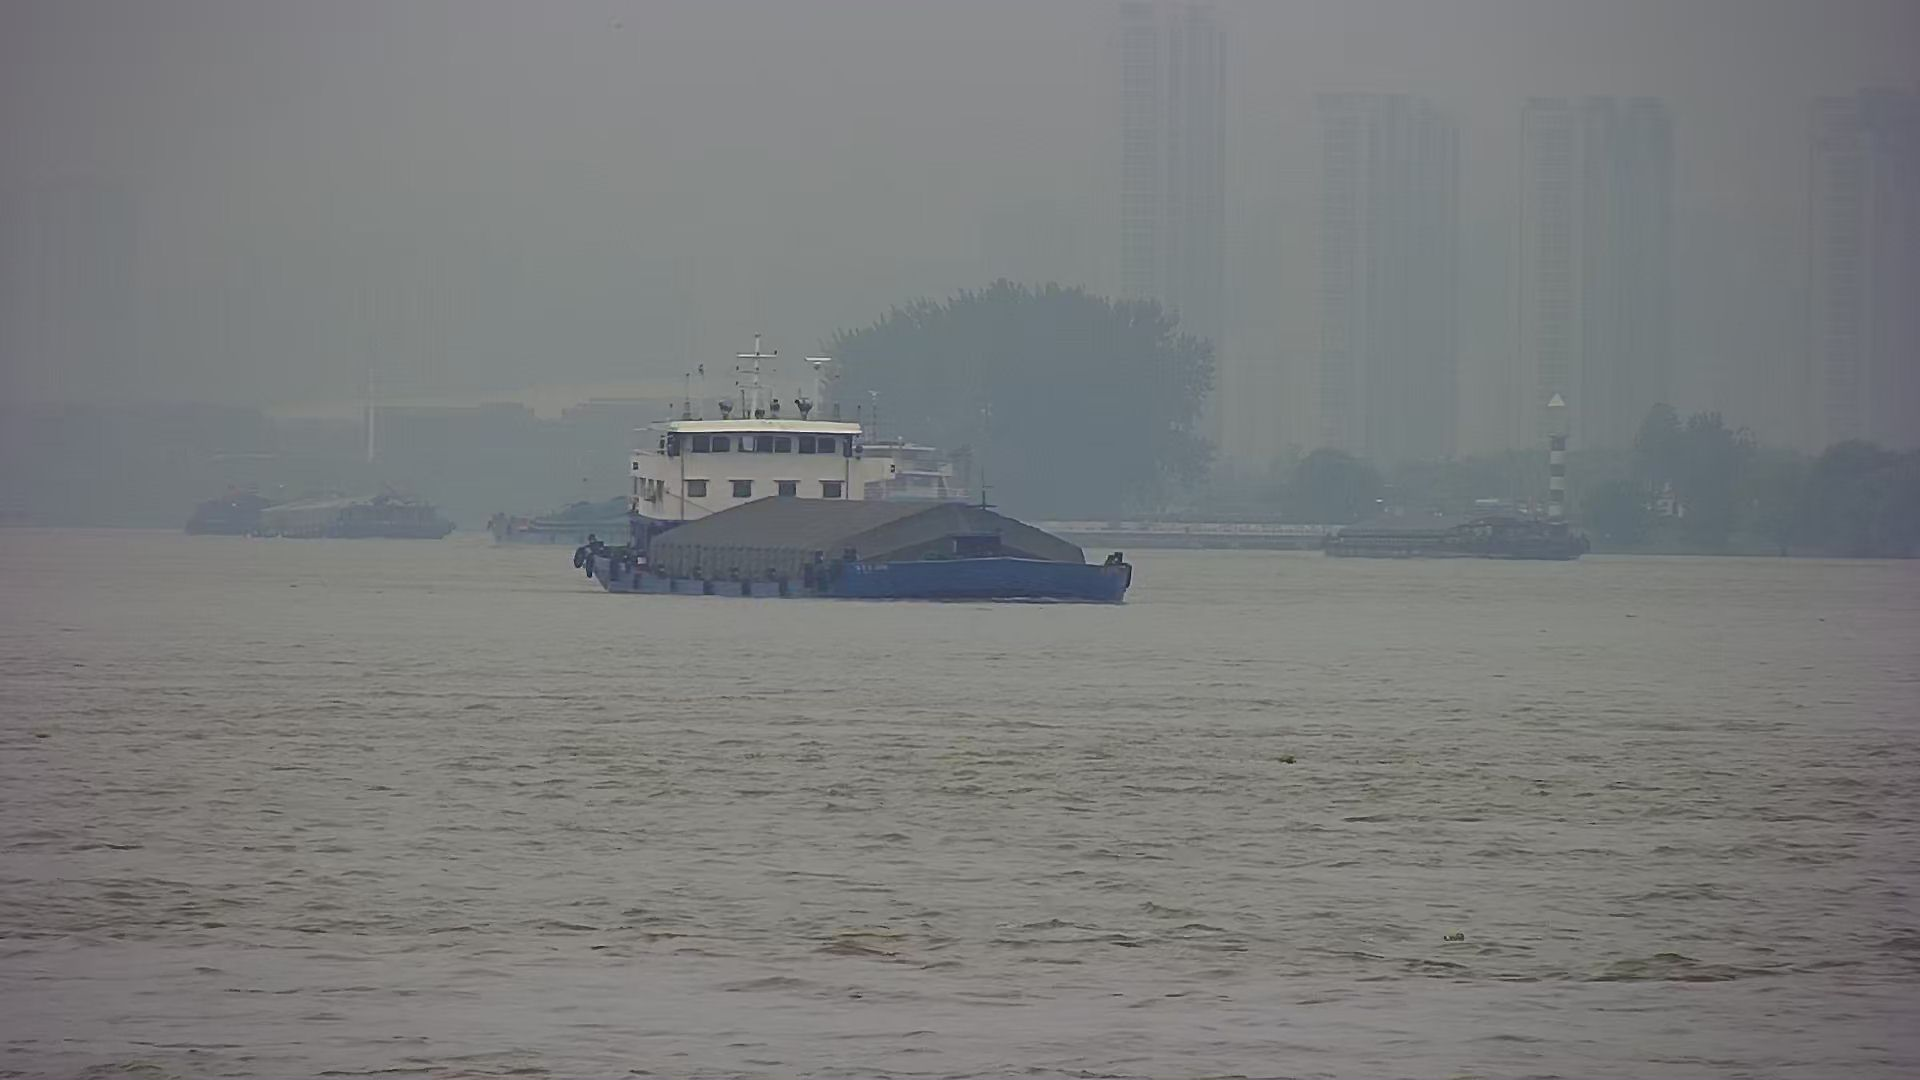ship: (571, 349, 1145, 608), (175, 477, 471, 545), (1312, 502, 1607, 564)
